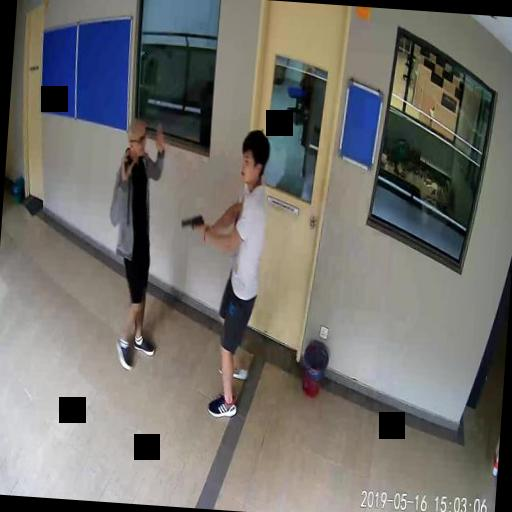Handgun: (176, 208, 208, 240)
